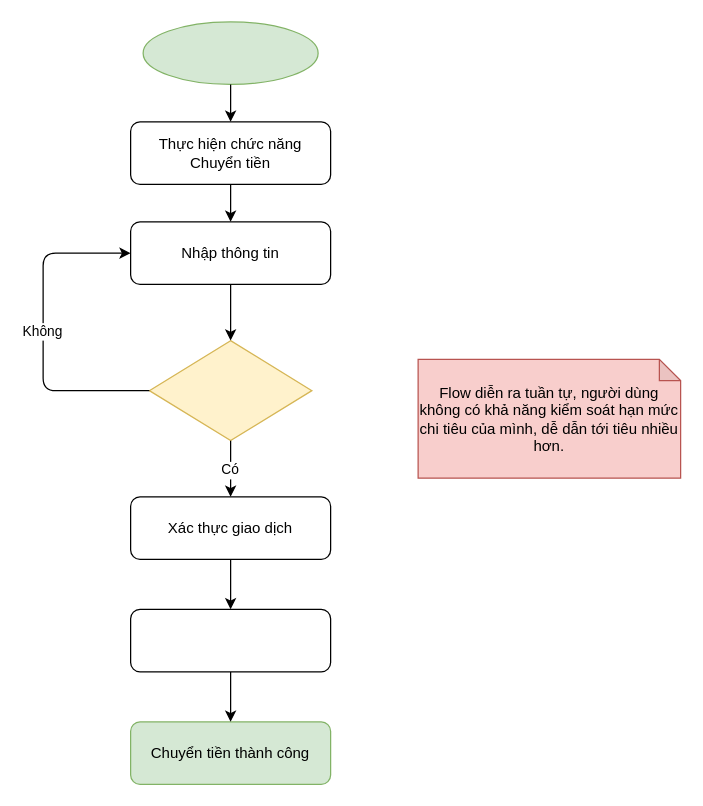
Image size: 703x806. Some labels were removed from this diagram. The centre of each missing label's shape, as x and y in pixels:
Bắt đầu: (x=230, y=52)
Nhập mã OTP / Xác thực: (x=230, y=640)
Thông tin hợp lệ?: (x=230, y=390)
